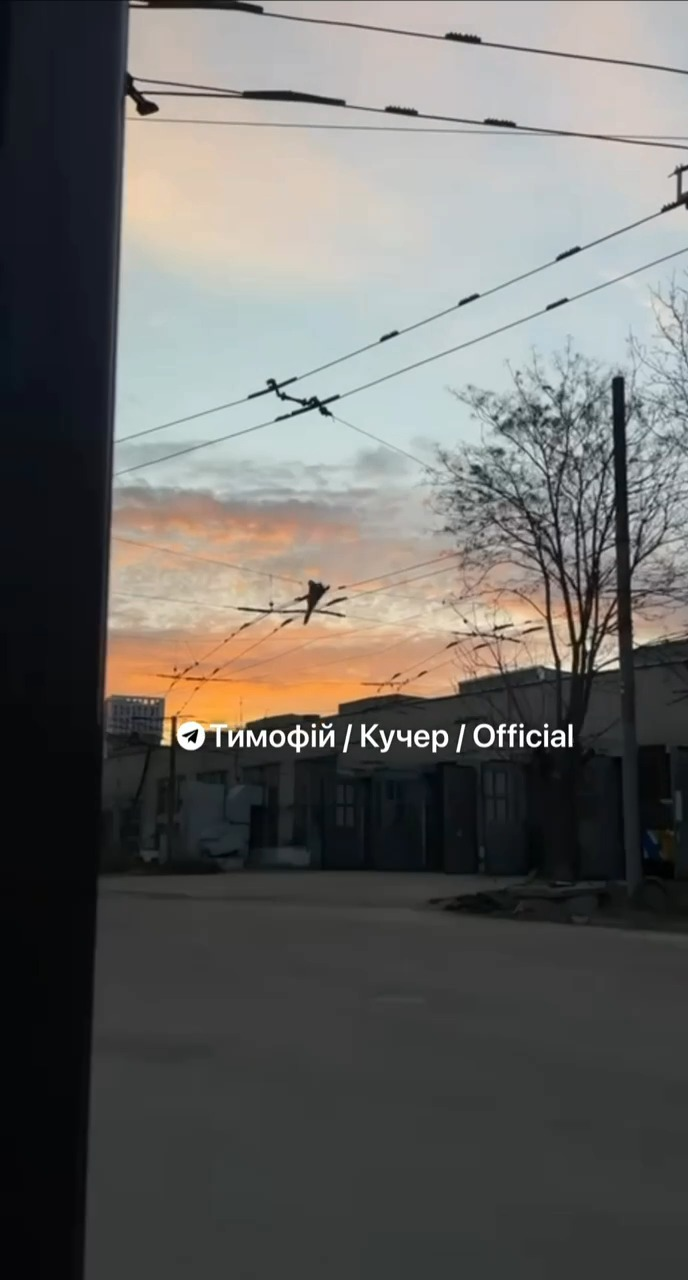shahed: (300, 575, 331, 631)
